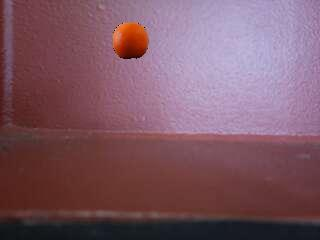Orange: (114, 22, 148, 60)
